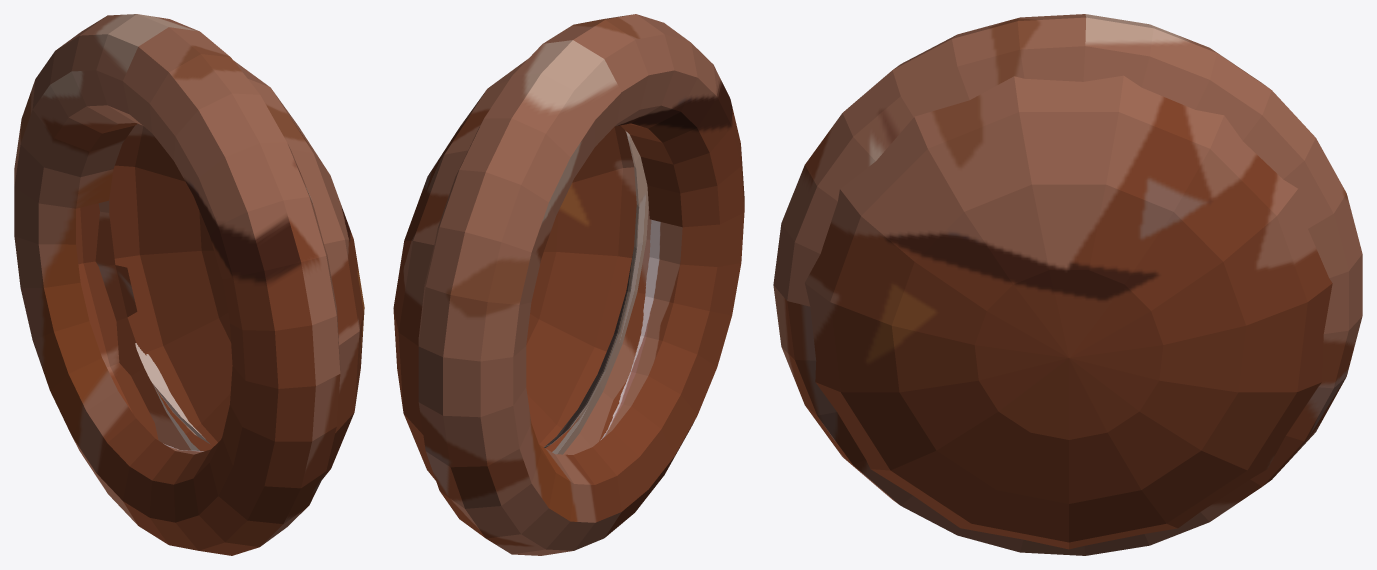
File: leaf_car_steering_wheel.fbx
3 views of the same model, side by side, from view 1: azimuth 30°, elevation 25°; view 2: azimuth 150°, elevation 25°; view 3: azimuth 270°, elevation 25° (orthographic). The views are drawn at different scales.
Visible parts, largest first — view 1: Torus.001, Sphere.001; view 2: Torus.001, Sphere.001; view 3: Sphere.001, Torus.001.
Part boxes in pixels (x1,y1,x2,y2): Torus.001: (14, 14, 340, 555); Sphere.001: (76, 60, 364, 479); Torus.001: (418, 14, 744, 555); Sphere.001: (393, 59, 636, 480); Sphere.001: (805, 75, 1332, 549); Torus.001: (773, 14, 1362, 555).
Bounding box in the file's own units: 18.84 × 49.84 × 49.76.
Materials: 1 (1 with a texture image).
